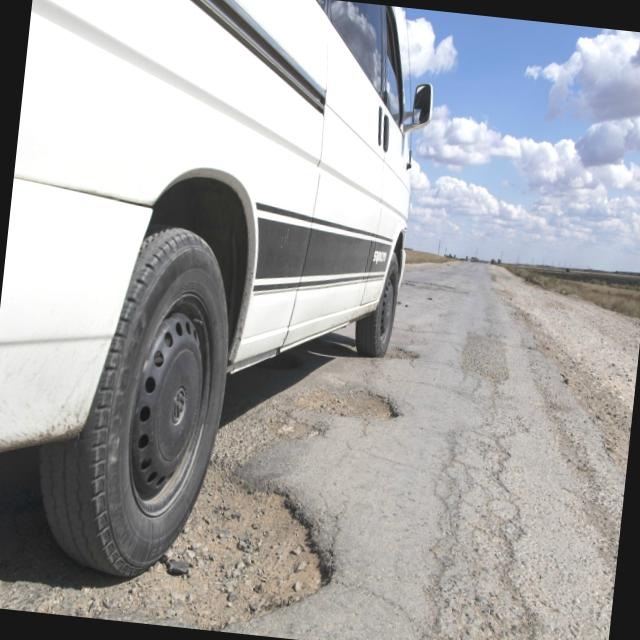bad-road: (192, 457, 346, 638), (287, 376, 402, 426), (227, 412, 331, 467), (387, 342, 421, 365)
